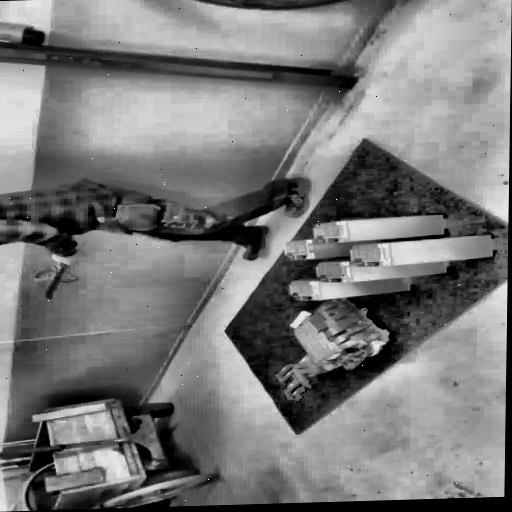battery_module: (352, 234, 492, 266), (315, 214, 445, 242), (317, 255, 448, 282), (291, 272, 409, 299), (273, 359, 308, 403), (283, 238, 311, 259)
bms_unit: (288, 296, 398, 372)
